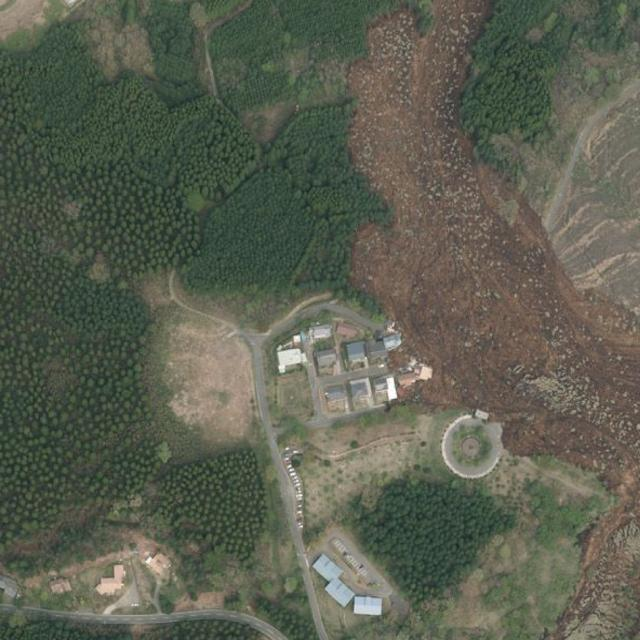landslide: (349, 1, 640, 636)
